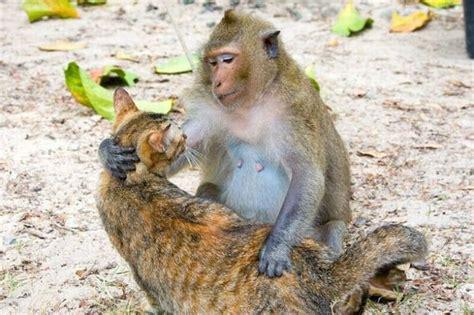cat: (95, 88, 426, 315)
monkey: (99, 9, 349, 276)
